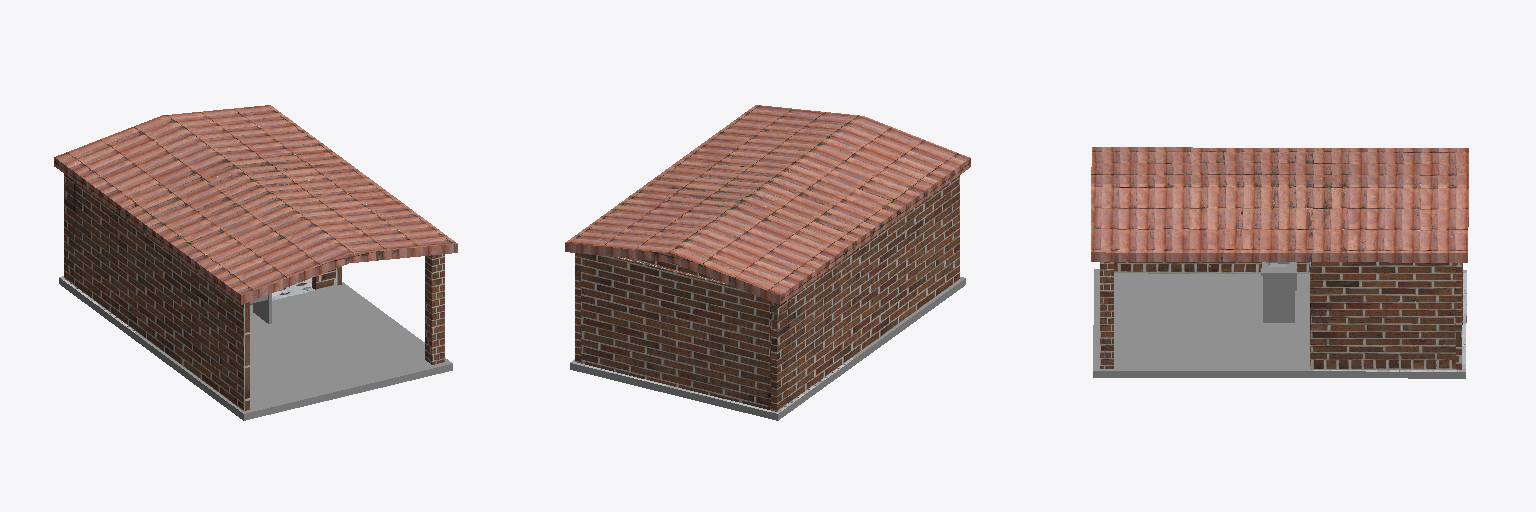
3 renders of one model, left to right at view 1: azimuth 30°, elevation 25°; view 2: azimuth 150°, elevation 25°; view 3: azimuth 270°, elevation 25°, orthographic.
Visible parts, largest first — view 1: Barracao_Cube; view 2: Barracao_Cube; view 3: Barracao_Cube, MesaEscritorio_Cube.
Part boxes in pixels (bbox=[...]): Barracao_Cube: bbox=[54, 105, 457, 420]; Barracao_Cube: bbox=[565, 105, 970, 420]; Barracao_Cube: bbox=[1091, 147, 1468, 378]; MesaEscritorio_Cube: bbox=[1261, 262, 1296, 322].
Bounding box in the file's own units: 7.53 × 4.72 × 11.37.
Materials: 9 (4 with a texture image).